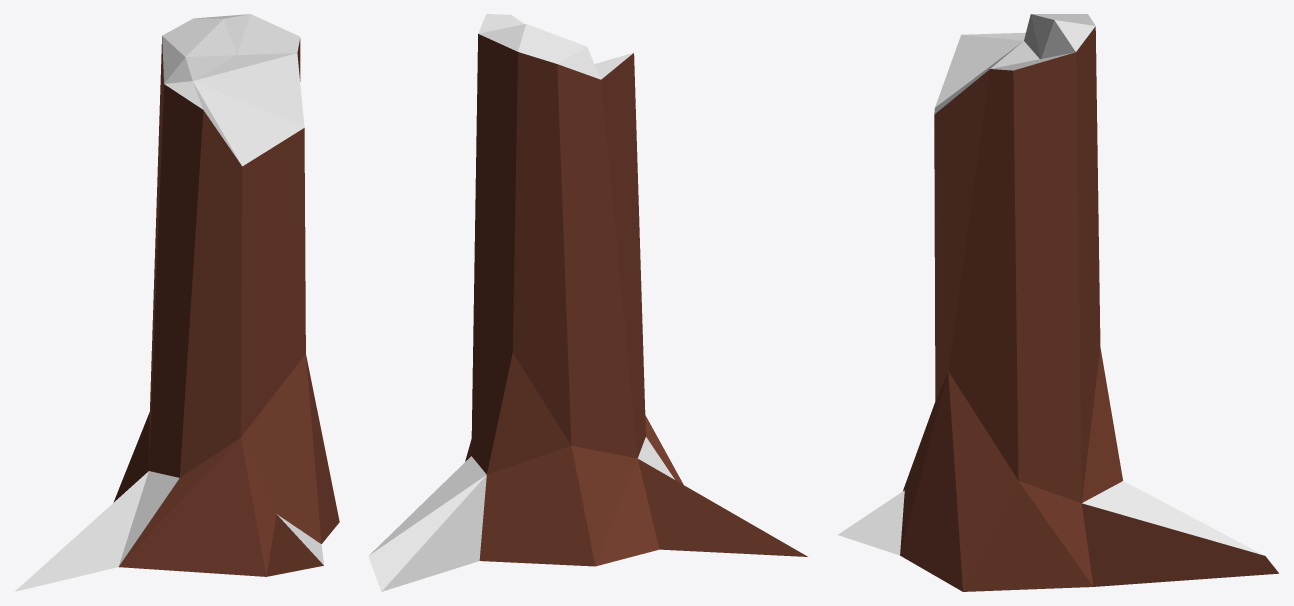
File: pine_trunk_type_8_extra_LOD3.fbx
3 views of the same model, side by side, from view 1: azimuth 30°, elevation 25°; view 2: azimuth 150°, elevation 25°; view 3: azimuth 270°, elevation 25° (orthographic). The views are drawn at different scales.
Visible parts, largest first — view 1: pt_type_8.001; view 2: pt_type_8.001; view 3: pt_type_8.001.
Part boxes in pixels (x1,y1,x2,y2): pt_type_8.001: (14,14,339,591); pt_type_8.001: (368,14,807,591); pt_type_8.001: (838,14,1278,591).
Size of the model in its own units: 253 by 377 by 281.
